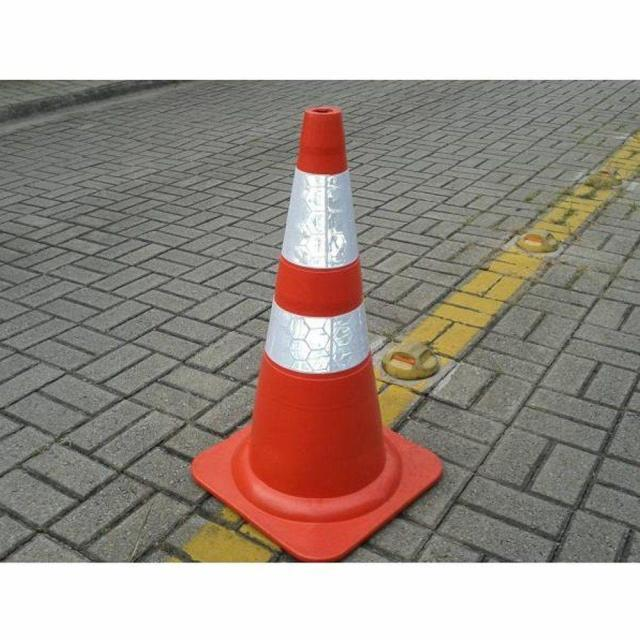traffic cone: (190, 105, 444, 563)
